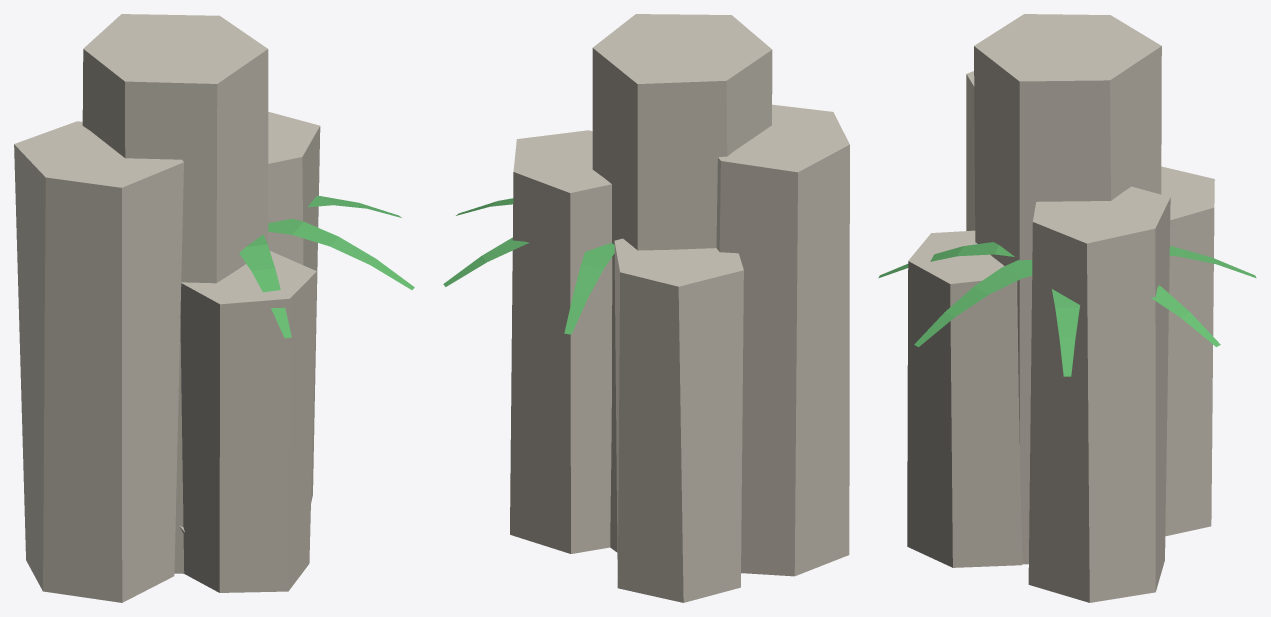
File: chao-garden-props.glb
3 views of the same model, side by side, from view 1: azimuth 30°, elevation 25°; view 2: azimuth 150°, elevation 25°; view 3: azimuth 270°, elevation 25° (orthographic).
Parts seen in each view (by area): view 1: CliffColumn, Palm; view 2: CliffColumn, Palm; view 3: CliffColumn, Palm.
Boxes of the visible parts, x1,y1,x2,y2 form: CliffColumn: (14, 14, 320, 602); Palm: (239, 196, 414, 338); CliffColumn: (510, 14, 849, 602); Palm: (443, 198, 614, 334); CliffColumn: (907, 14, 1214, 602); Palm: (878, 242, 1256, 376).
Size of the model in its own units: 2.57 by 3.25 by 2.27.
